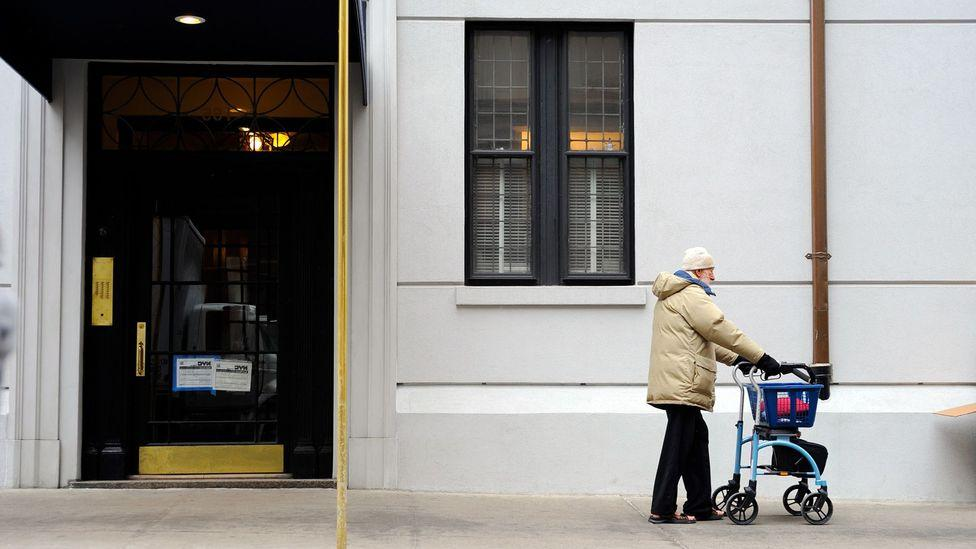walking_frame: (646, 246, 834, 525)
